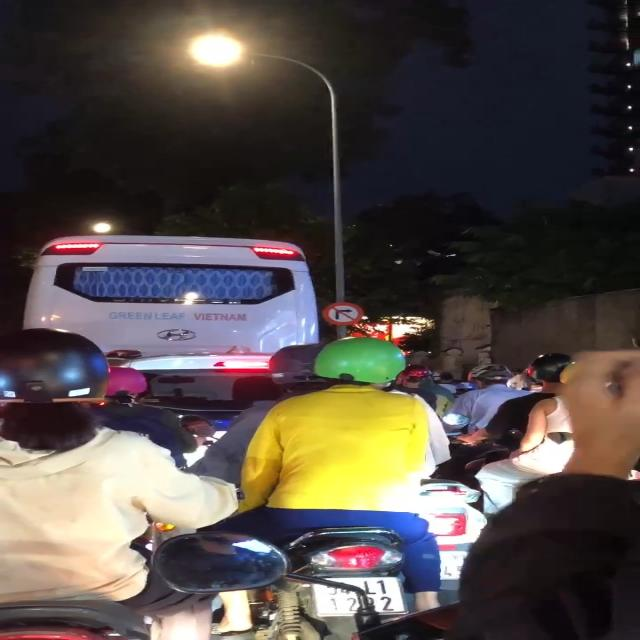Bien bao cam re phai: (320, 299, 371, 327)
